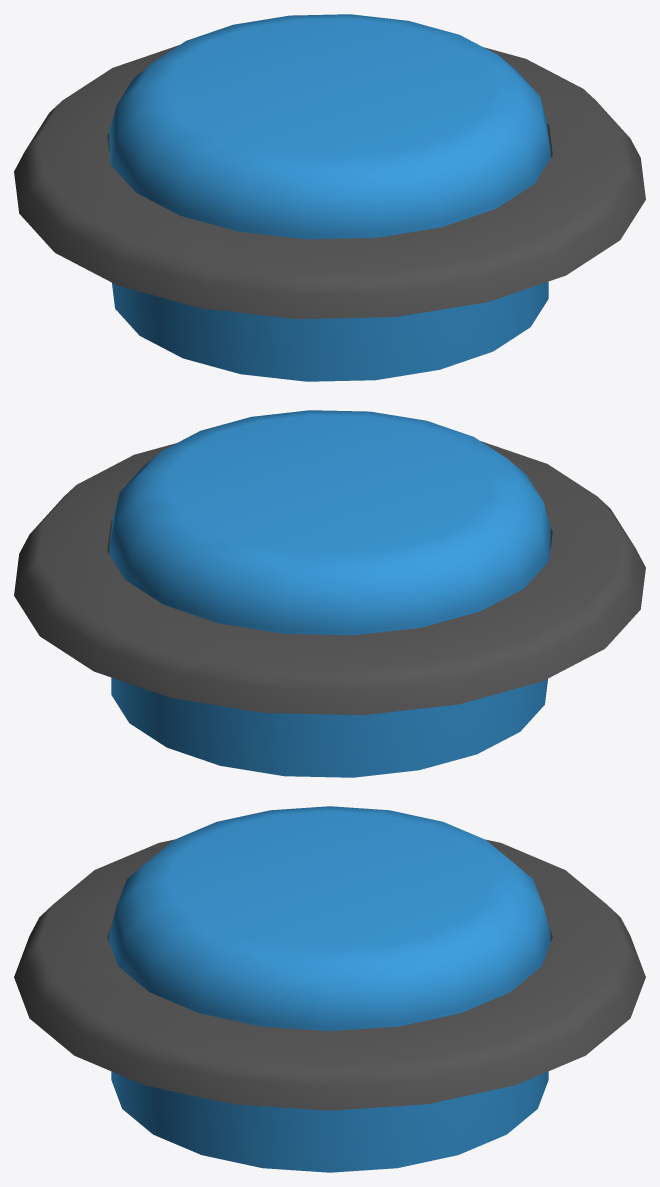
The model's file is button2_pressed.glb.
3 views of the same model, one above another, from view 1: azimuth 30°, elevation 25°; view 2: azimuth 150°, elevation 25°; view 3: azimuth 270°, elevation 25° (orthographic).
Parts seen in each view (by area): view 1: SM_SimpleButton_B.001, SM_SimpleButton_Base_B.001; view 2: SM_SimpleButton_B.001, SM_SimpleButton_Base_B.001; view 3: SM_SimpleButton_B.001, SM_SimpleButton_Base_B.001.
Part boxes in pixels (<box>): SM_SimpleButton_B.001: <box>109,14,550,381</box>; SM_SimpleButton_Base_B.001: <box>14,45,645,319</box>; SM_SimpleButton_B.001: <box>109,410,550,777</box>; SM_SimpleButton_Base_B.001: <box>14,441,645,715</box>; SM_SimpleButton_B.001: <box>109,806,550,1172</box>; SM_SimpleButton_Base_B.001: <box>14,839,645,1110</box>.
Bounding box in the file's own units: 24.07 × 8.4 × 24.07.
